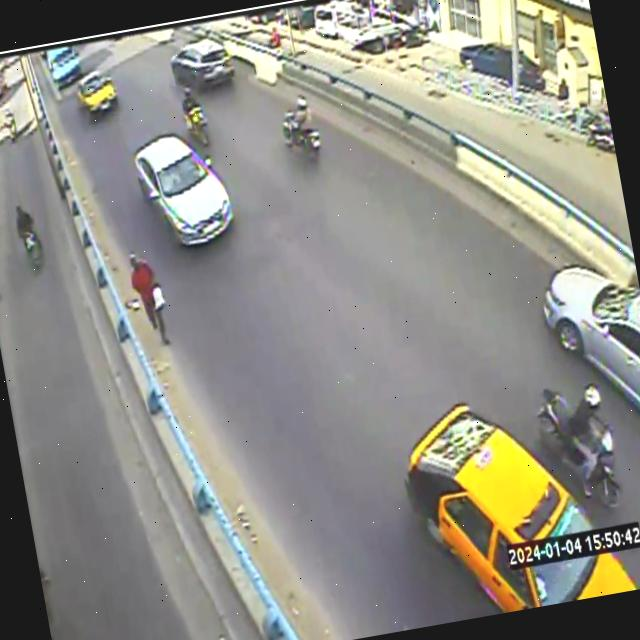car: (405, 403, 635, 611), (543, 264, 640, 410), (133, 132, 233, 244), (170, 37, 234, 91), (78, 71, 116, 112), (46, 45, 82, 87)
